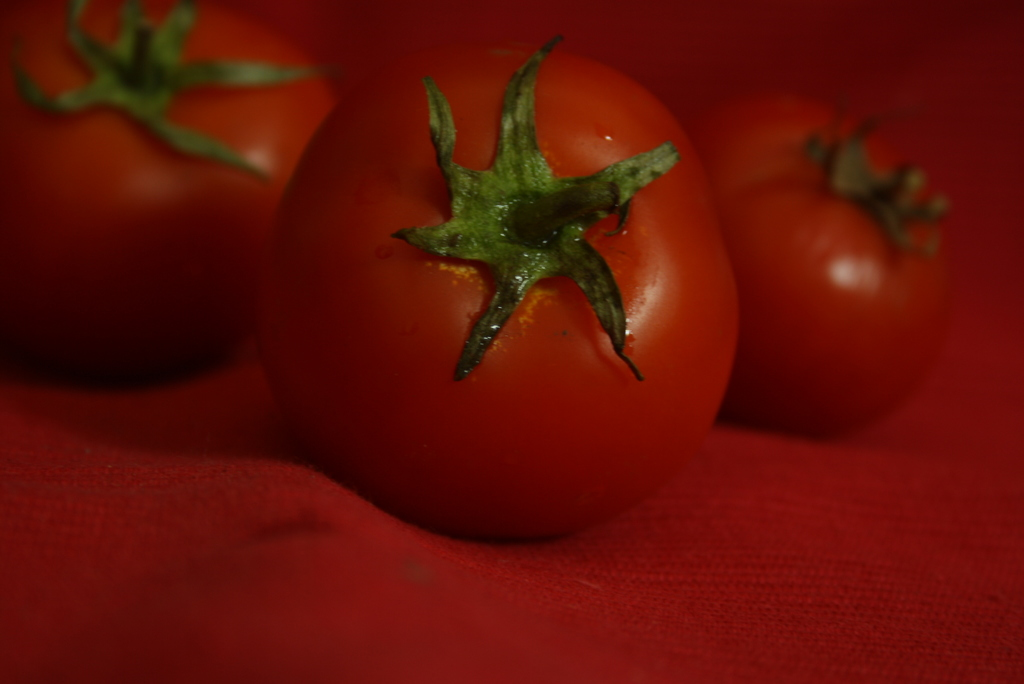Tomato: (251, 39, 741, 548), (0, 0, 341, 387), (686, 89, 948, 458)
